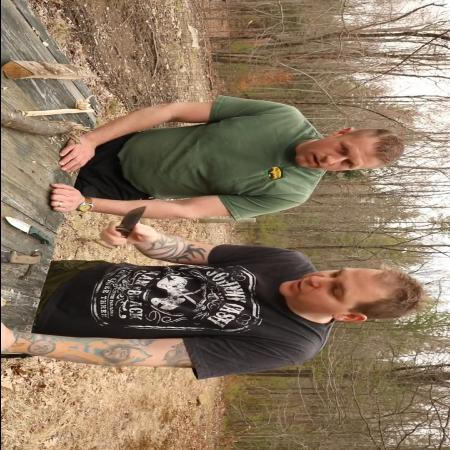long weapon: (97, 200, 155, 248)
